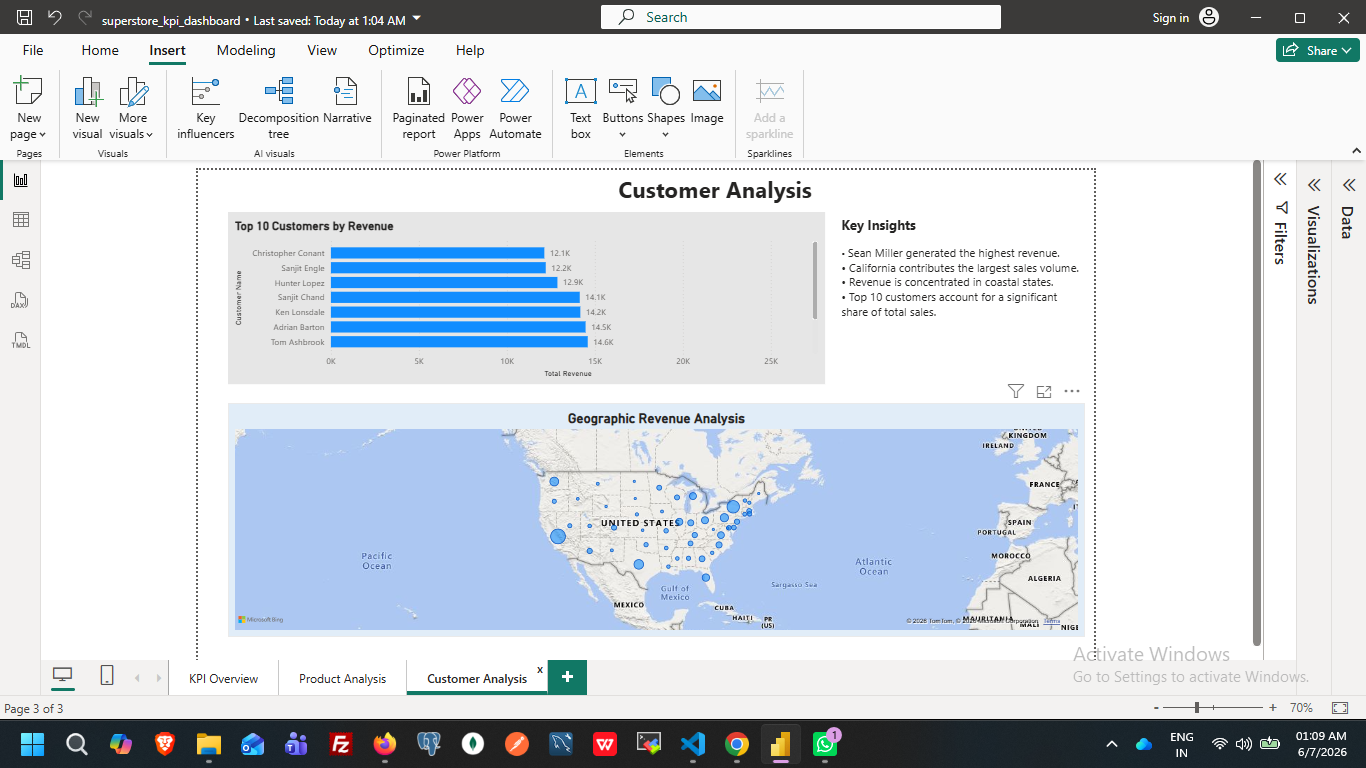

The dashboard page shown, as its layout file describes it:
{"tool":"powerbi","page":{"name":"Customer Analysis","canvas":[1280,720],"ordinal":2},"visuals":[{"type":"clusteredBarChart","title":"Top 10 Customers by Revenue","fields":{"Category":["superstore.Customer Name"],"Y":["superstore.Total Revenue"]},"box":[42.9,60,852.9,245.7],"z":0},{"type":"map","title":"Geographic Revenue Analysis","fields":{"Category":["superstore.State"],"Size":["superstore.Total Revenue"]},"box":[42.9,332.9,1224.3,334.3],"z":1000},{"type":"textbox","box":[595.7,0,337.1,60],"z":1001},{"type":"textbox","box":[914.3,60,352.9,178.6],"z":1002}]}

Visuals, with their boxes on the page's 1280x720 design canvas (x1, y1, x2, y2). These are canvas units, not pixel positions in the 1366x768 screenshot, which may show the page scaled, cropped or inside an application window:
"Top 10 Customers by Revenue" clusteredBarChart: (43, 60, 896, 306)
"Geographic Revenue Analysis" map: (43, 333, 1267, 667)
textbox: (596, 0, 933, 60)
textbox: (914, 60, 1267, 239)
